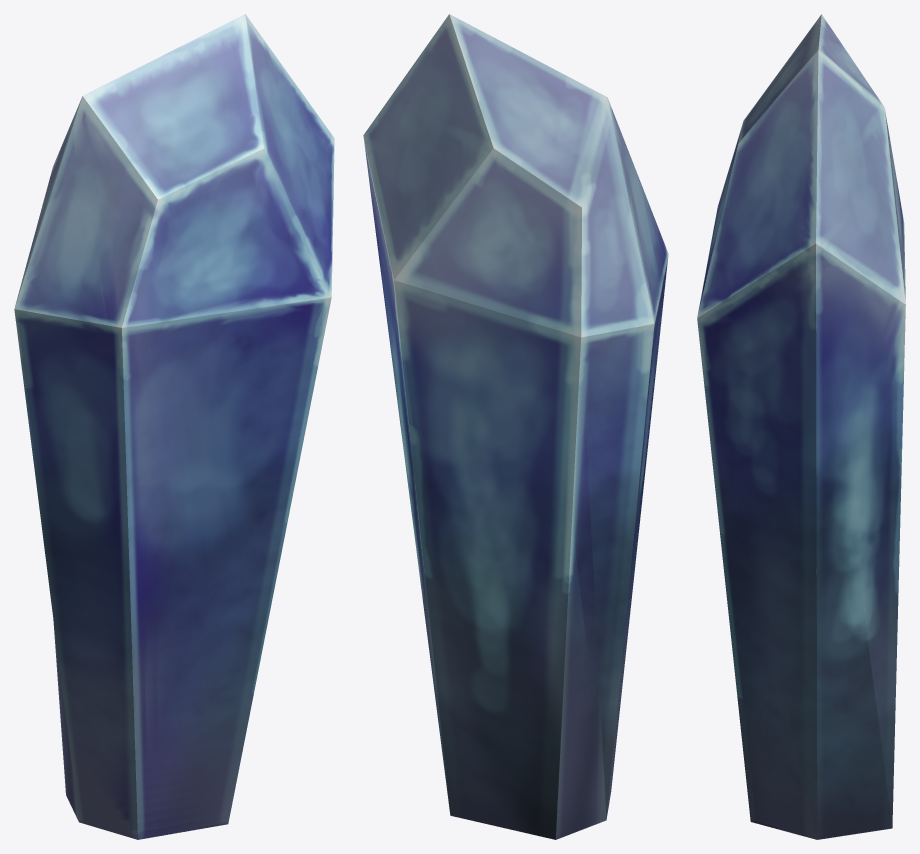
The model's file is lowpolycrista1.fbx.
3 views of the same model, side by side, from view 1: azimuth 30°, elevation 25°; view 2: azimuth 150°, elevation 25°; view 3: azimuth 270°, elevation 25° (orthographic). The views are drawn at different scales.
Visible parts, largest first — view 1: Cube; view 2: Cube; view 3: Cube.
Boxes of the visible parts, x1,y1,x2,y2 form: Cube: (14, 14, 334, 839); Cube: (363, 14, 668, 839); Cube: (697, 14, 905, 839).
Bounding box in the file's own units: 257 × 620 × 147.
1 material, 1 textured.
